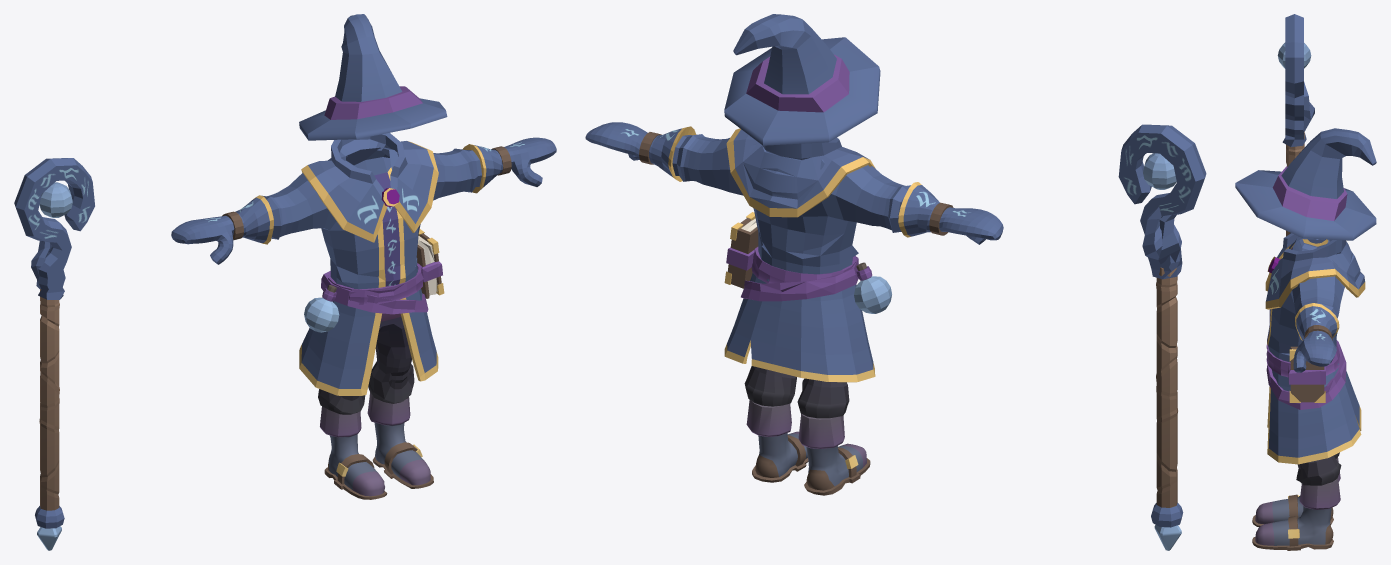
File: Mage_T0.fbx
3 renders of one model, left to right at view 1: azimuth 30°, elevation 25°; view 2: azimuth 150°, elevation 25°; view 3: azimuth 270°, elevation 25°, orthographic. The views are drawn at different scales.
Parts seen in each view (by area): view 1: Chest, Weapon, Shoulders, Head, Feet, Hands, Belt, Pants; view 2: Chest, Head, Weapon, Shoulders, Feet, Hands, Belt, Pants; view 3: Head, Chest, Feet, Shoulders, Weapon, Belt, Hands, Pants.
Part boxes in pixels (<box>): Chest: <box>262,147,481,395</box>; Weapon: <box>14,158,94,550</box>; Shoulders: <box>301,132,438,242</box>; Head: <box>299,14,447,140</box>; Feet: <box>320,392,433,499</box>; Hands: <box>171,137,556,264</box>; Belt: <box>304,229,444,332</box>; Pants: <box>318,313,414,414</box>; Chest: <box>672,134,910,382</box>; Head: <box>724,14,880,145</box>; Weapon: <box>1118,124,1206,550</box>; Shoulders: <box>726,128,875,217</box>; Feet: <box>746,400,870,495</box>; Hands: <box>585,122,1003,244</box>; Belt: <box>724,212,891,313</box>; Pants: <box>744,366,849,418</box>; Head: <box>1235,128,1376,240</box>; Chest: <box>1267,237,1361,464</box>; Feet: <box>1252,457,1340,550</box>; Shoulders: <box>1265,232,1365,309</box>; Weapon: <box>1277,14,1314,248</box>; Belt: <box>1266,340,1346,409</box>; Hands: <box>1293,239,1339,372</box>; Pants: <box>1296,452,1341,485</box>.
Bounding box in the file's own units: 289 × 218 × 68.99.
